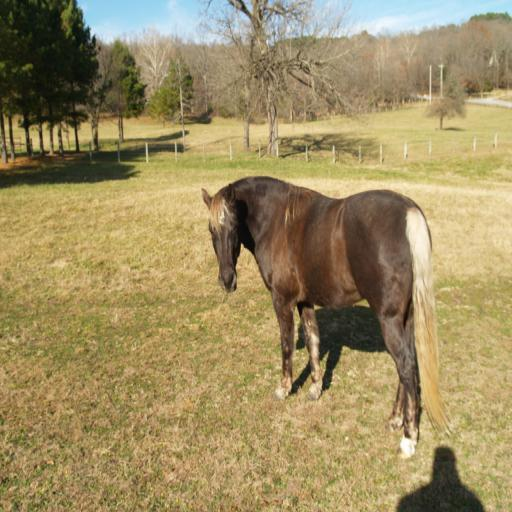horse: (200, 173, 454, 459)
